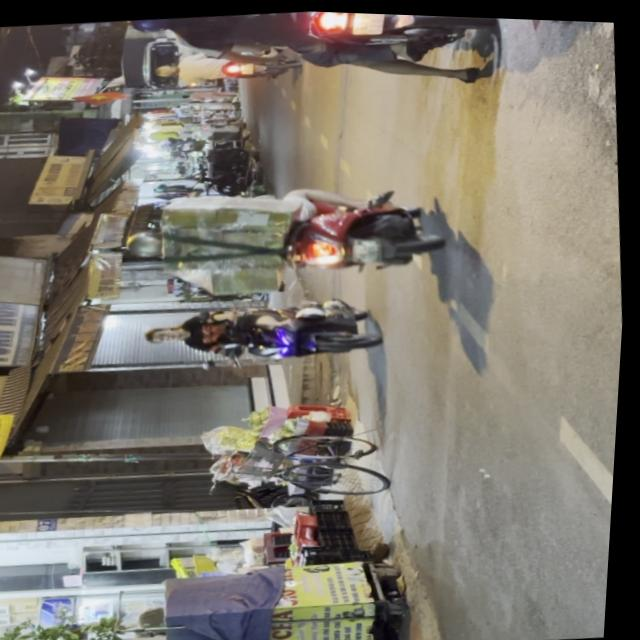helmet: (124, 225, 175, 262), (123, 15, 177, 37)
licenseplate: (111, 167, 456, 298), (112, 3, 493, 107), (139, 286, 388, 377)
motorcyclist: (144, 324, 185, 346)
nohelmet: (347, 10, 382, 34), (352, 235, 383, 262)
